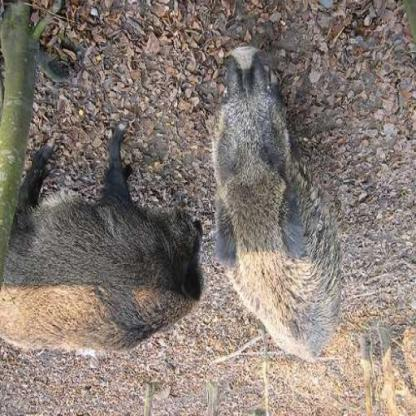boar: (185, 27, 359, 365), (0, 178, 214, 362)
